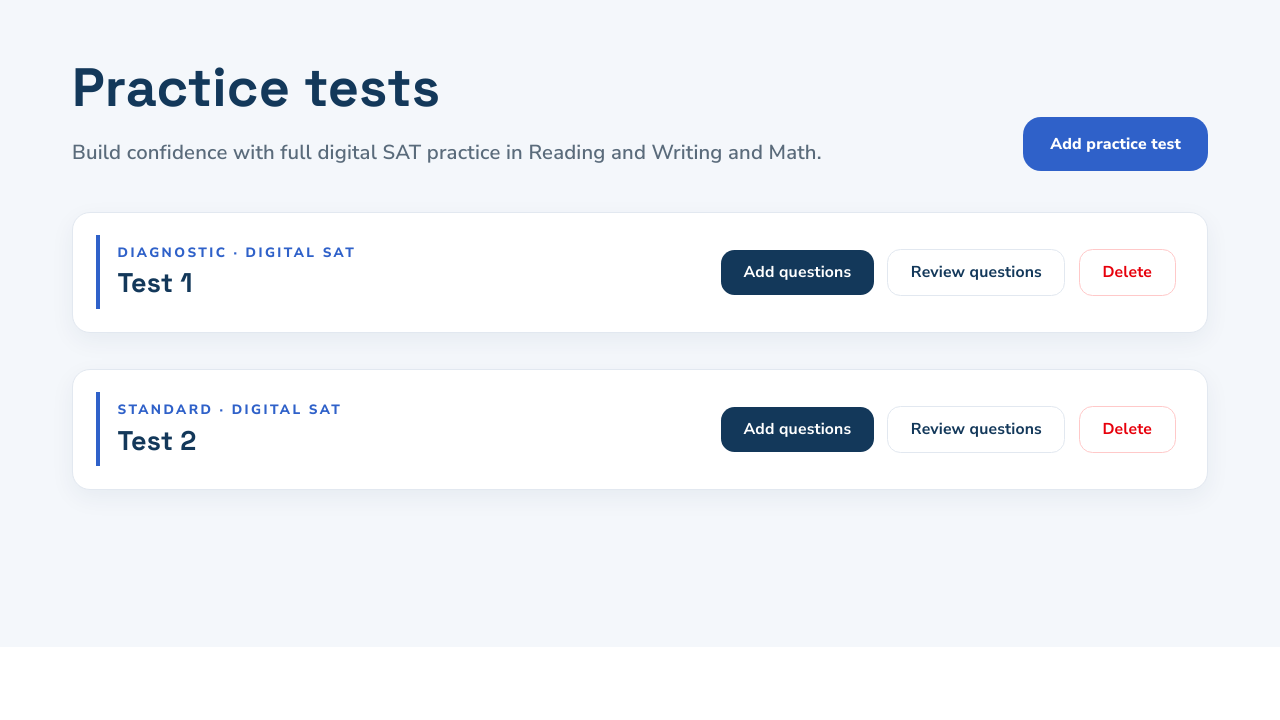
Test: PracticeTestsList › shows deleting state while deleting
This screenshot has width=1280, height=720.
Expected: the heading "Test 1" is shown, [118,266,193,300]
Click the button "Delete" in the row of "diagnostic" at (1127, 272), box [1079,249,1176,296]
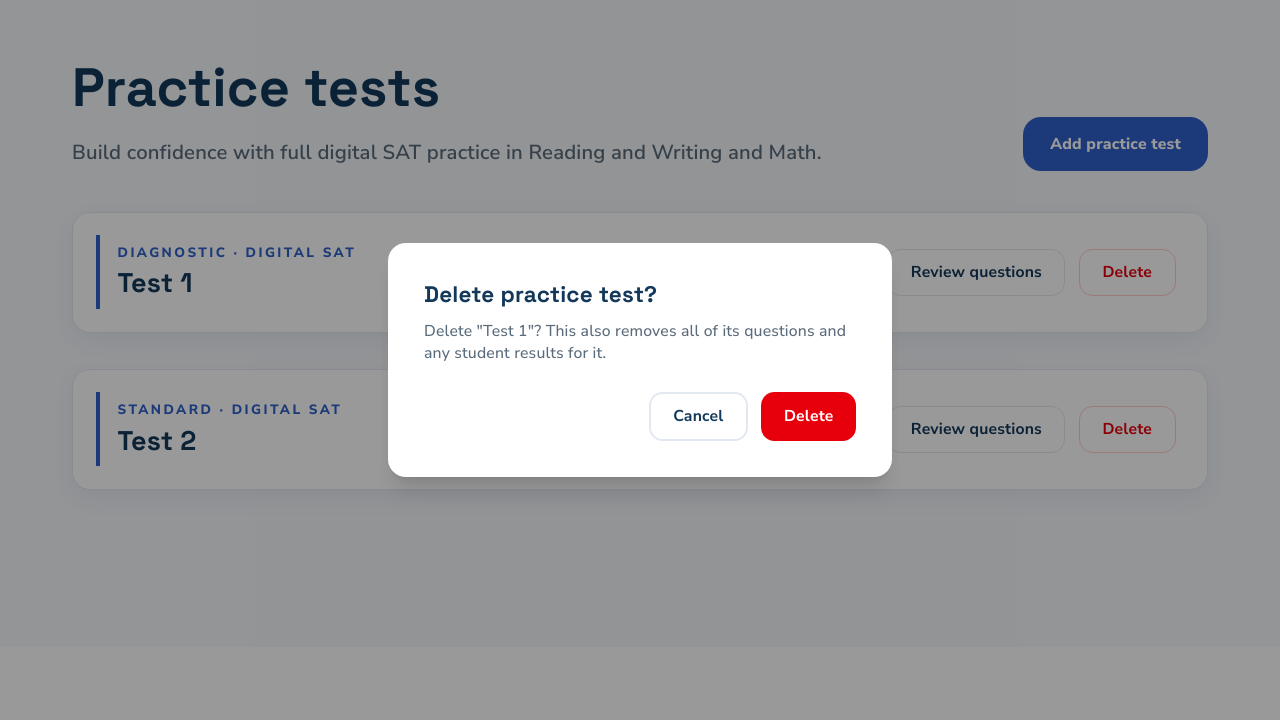
Click the button "Delete" at (809, 416), box [761,392,856,441]
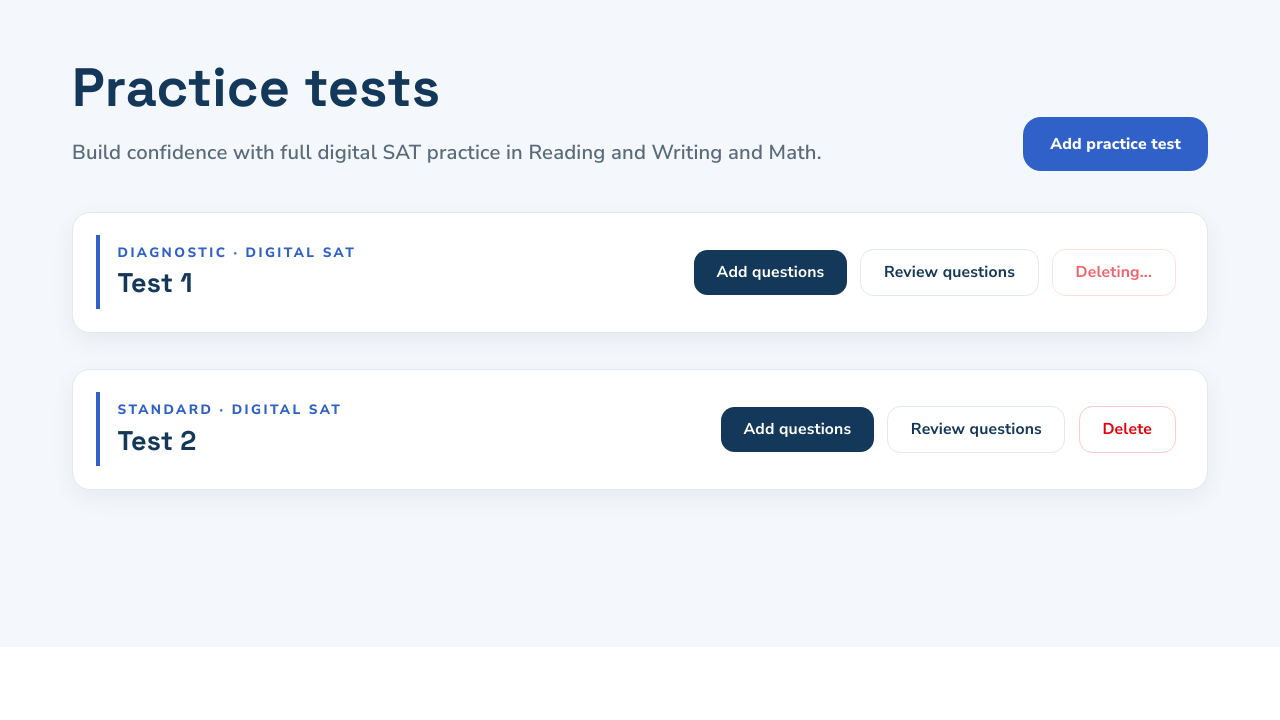
Expected: the button "Delete" is enabled, [1079,406,1176,453]
Result: the button "Deleting..." is disabled at [1052,249,1176,296]
